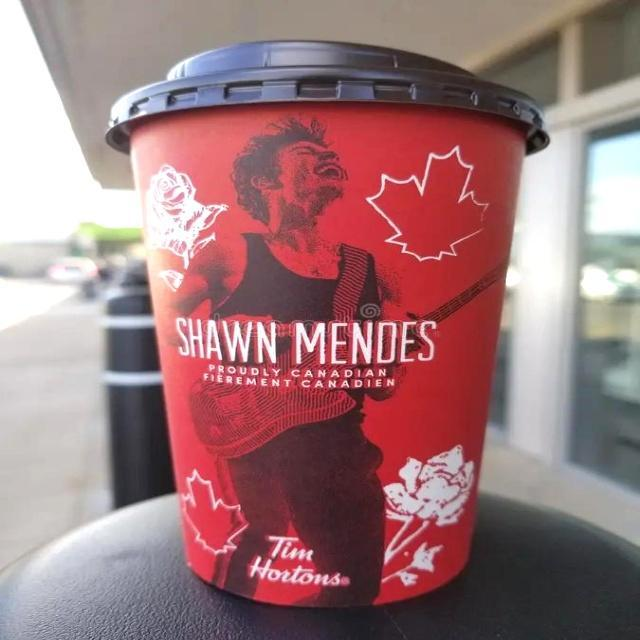timmies: (102, 38, 554, 614)
